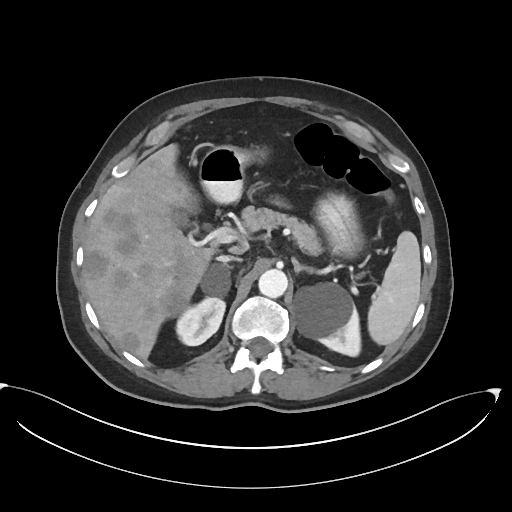Lesion: (287, 283, 356, 343)
